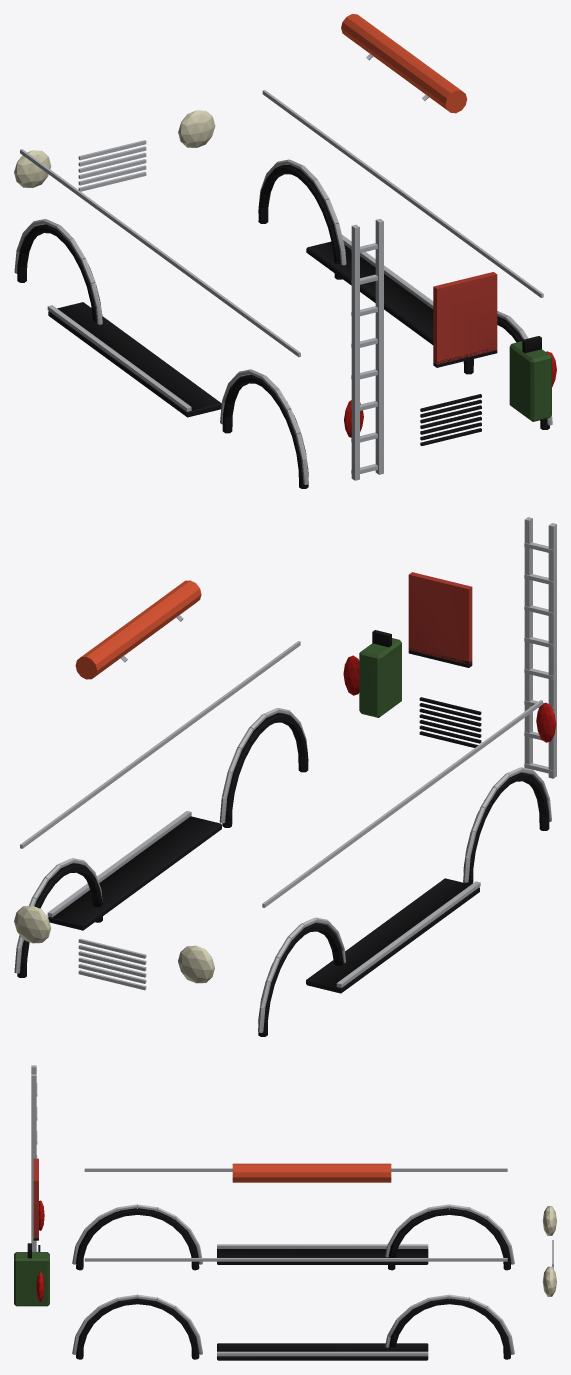
File: camper_extras.glb
3 renders of one model, top to bottom at view 1: azimuth 30°, elevation 25°; view 2: azimuth 150°, elevation 25°; view 3: azimuth 270°, elevation 25°, orthographic. The views are drawn at different scales.
Parts seen in each view (by area): view 1: br; view 2: br; view 3: br.
Part boxes in pixels (x1,y1,x2,y2): br: (14,14,556,488); br: (14,517,556,1036); br: (14,1065,556,1360).
Size of the model in its own units: 2.44 by 2.2 by 5.14.
